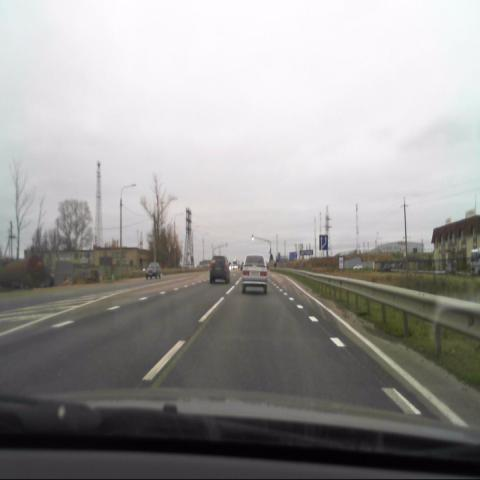5_15_3: (319, 234, 327, 250)
